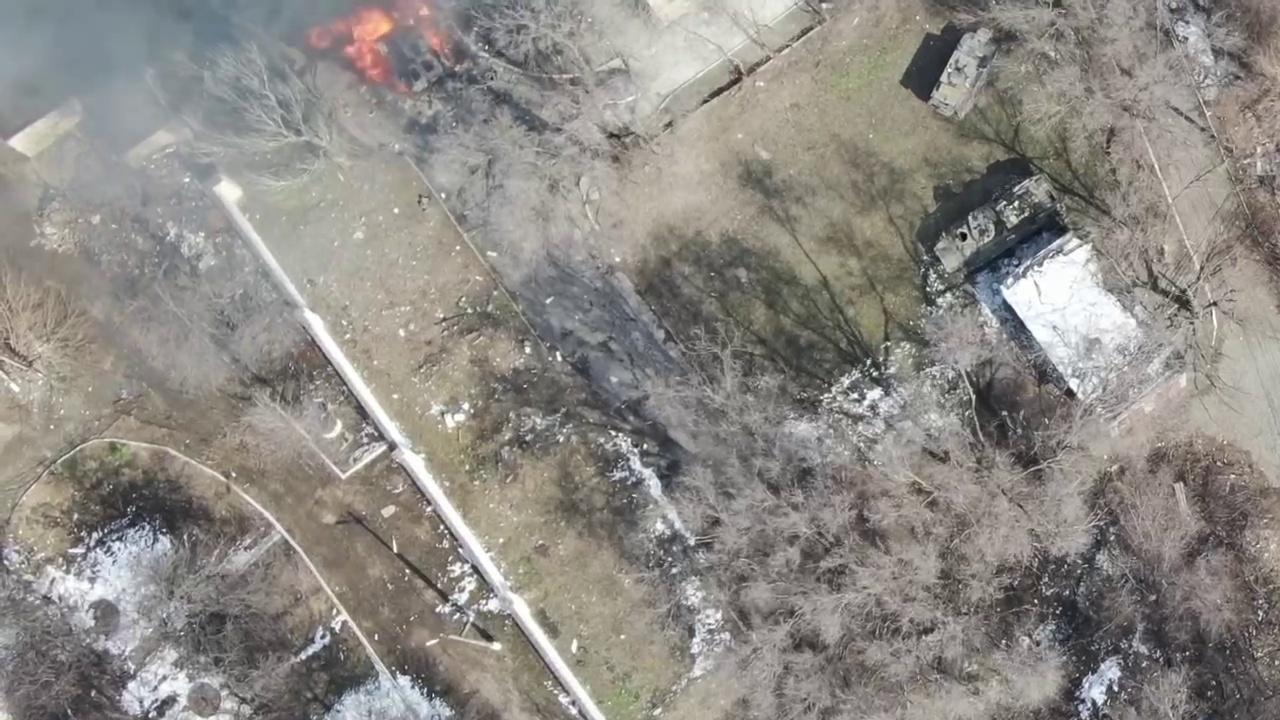tank: (936, 170, 1064, 291), (920, 26, 1006, 127)
